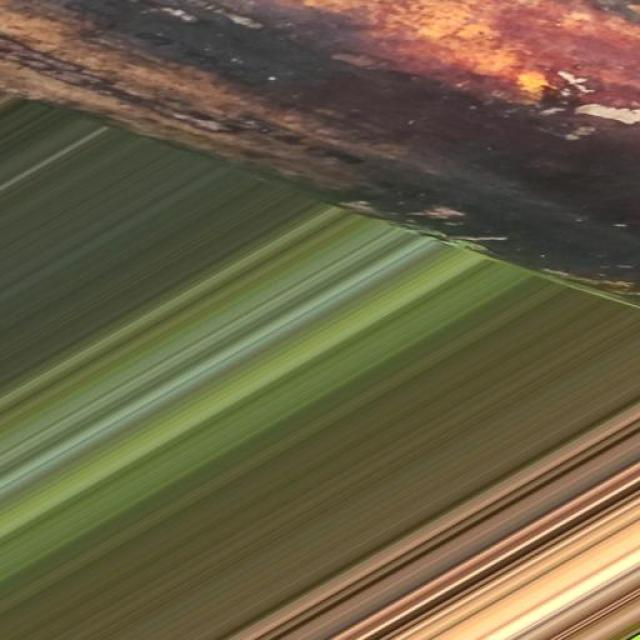Anthracnose: (2, 0, 639, 266)
